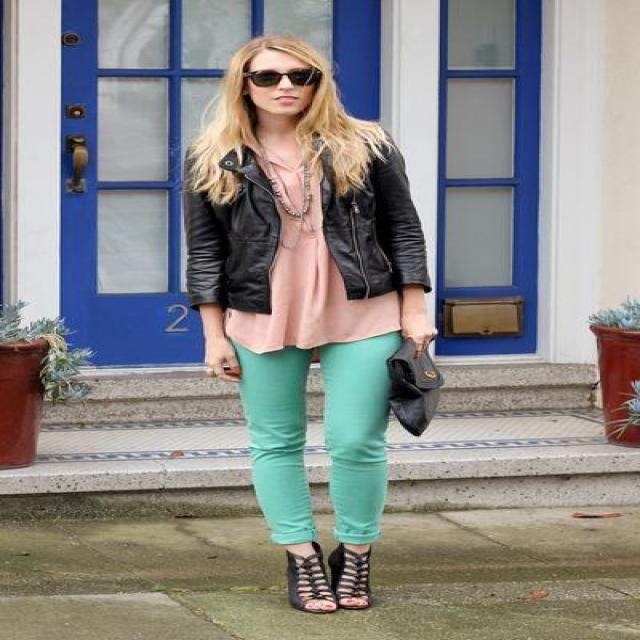bag: (374, 320, 474, 416)
jacket: (184, 144, 443, 315)
pants: (235, 334, 398, 543)
shirt: (225, 152, 422, 353)
shoe: (280, 550, 374, 614)
sunglass: (211, 56, 322, 104)
